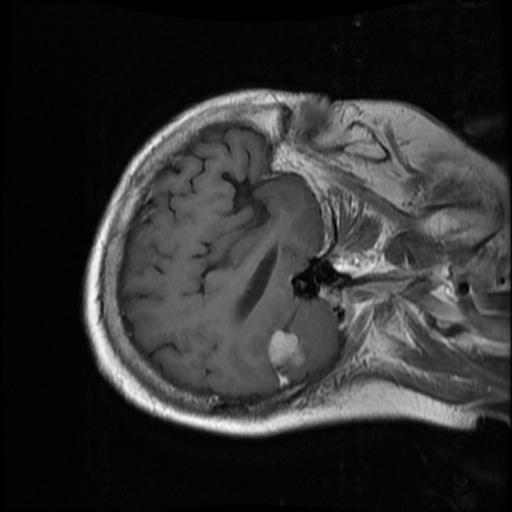meningioma: (264, 330, 305, 368)
